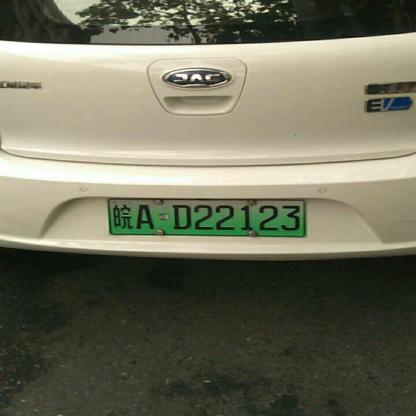lp: (108, 199, 303, 235)
